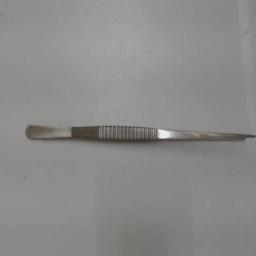DeBakey Dissector: (20, 124, 256, 150)
